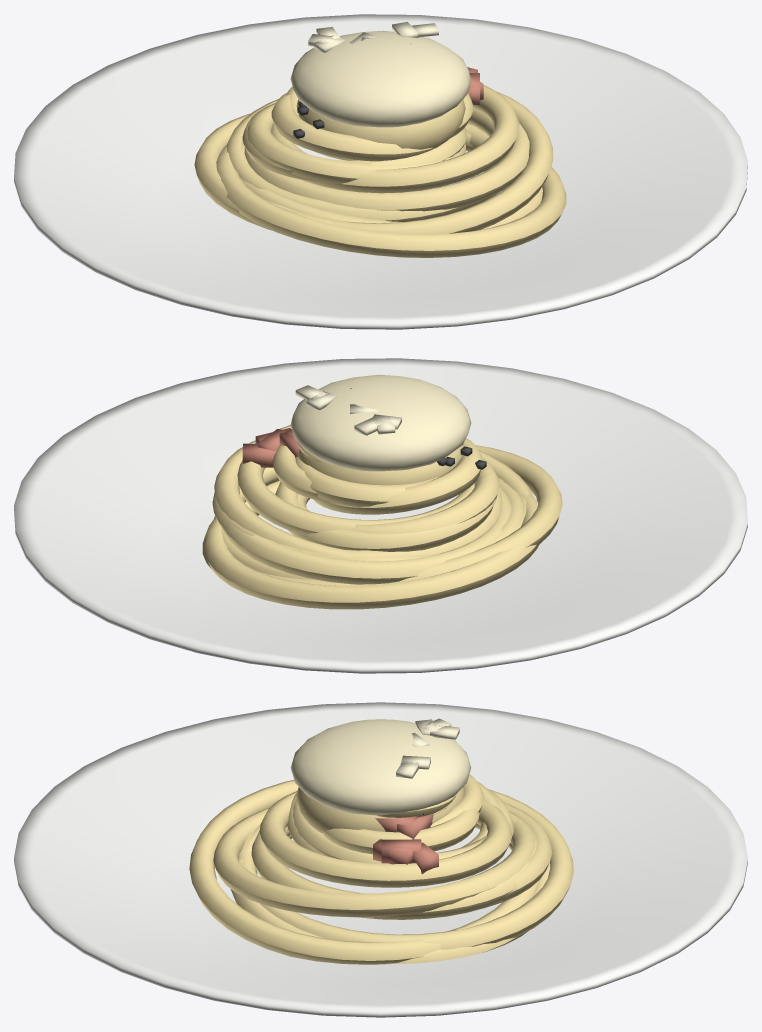
File: carbonara.glb
The picture shows the model from 3 angles, top to bottom: view 1: azimuth 30°, elevation 25°; view 2: azimuth 150°, elevation 25°; view 3: azimuth 270°, elevation 25°; orthographic projection.
Visible parts, largest first — view 1: part0, part1, part2, part3; view 2: part0, part1, part2, part3, part4; view 3: part0, part1, part2, part4, part3.
Part boxes in pixels (<box>): part0: <box>14,14,747,329</box>; part1: <box>194,85,566,257</box>; part2: <box>290,30,471,127</box>; part3: <box>308,21,438,52</box>; part0: <box>14,358,747,673</box>; part1: <box>202,425,562,609</box>; part2: <box>290,374,471,471</box>; part3: <box>295,385,401,435</box>; part4: <box>242,428,299,467</box>; part0: <box>14,702,747,1017</box>; part1: <box>189,774,573,964</box>; part2: <box>290,719,471,815</box>; part4: <box>373,813,438,873</box>; part3: <box>380,718,459,778</box>.
Size of the model in its own units: 0.26 by 0.067 by 0.26.
